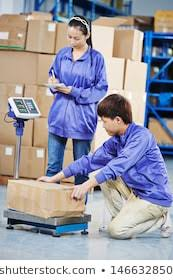Industrial Scale: (3, 95, 93, 239)
